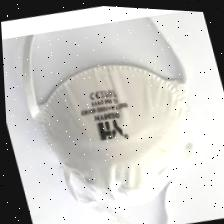mask: (5, 21, 224, 224)
